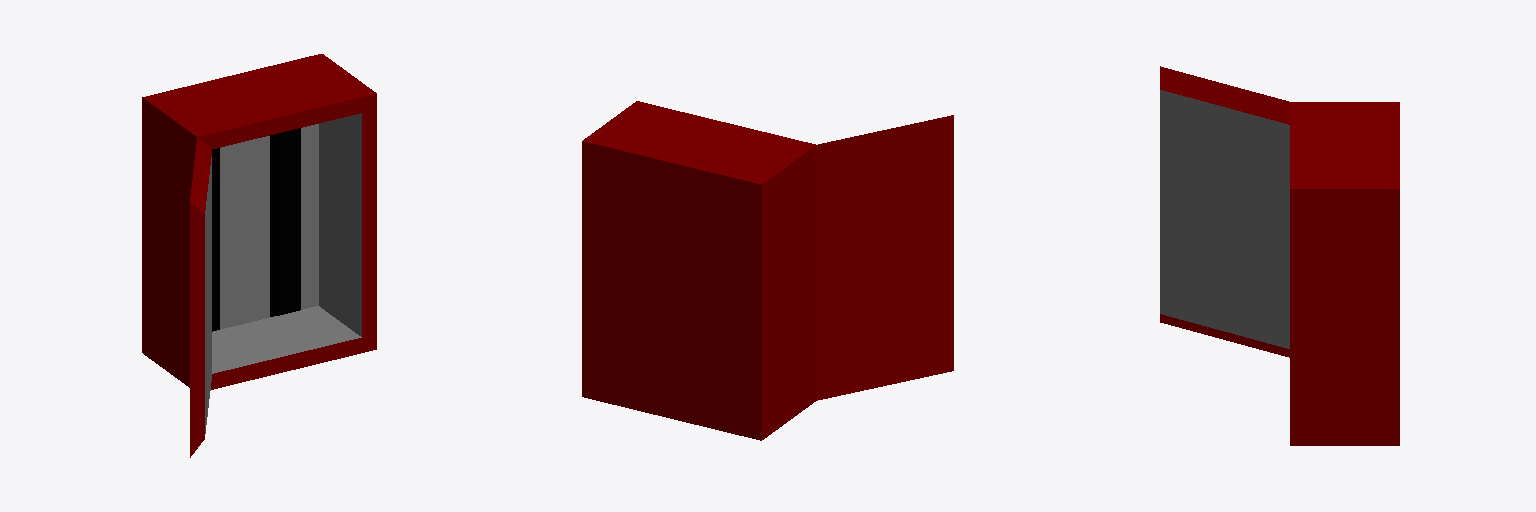
Rendered from powerbox.obj.
3 views of the same model, side by side, from view 1: azimuth 30°, elevation 25°; view 2: azimuth 150°, elevation 25°; view 3: azimuth 270°, elevation 25° (orthographic).
Parts seen in each view (by area): view 1: Cube_Cube.001; view 2: Cube_Cube.001; view 3: Cube_Cube.001.
Part boxes in pixels (x1,y1,x2,y2): Cube_Cube.001: (142, 54, 376, 457); Cube_Cube.001: (582, 101, 953, 440); Cube_Cube.001: (1160, 66, 1399, 445).
Size of the model in its own units: 1.03 by 1 by 0.8467.